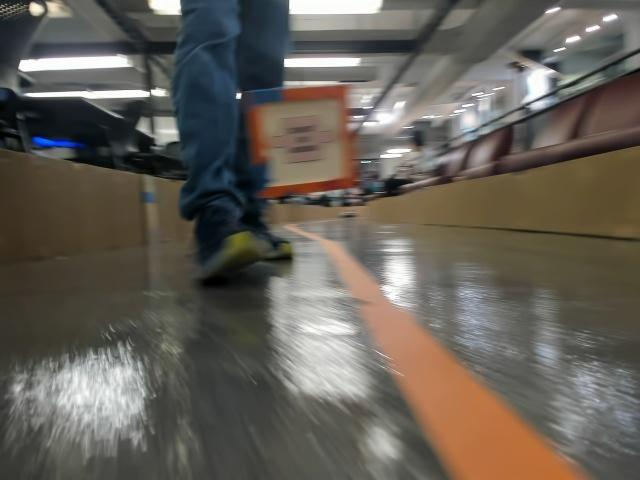Do Not Go Around: (259, 121, 333, 166)
